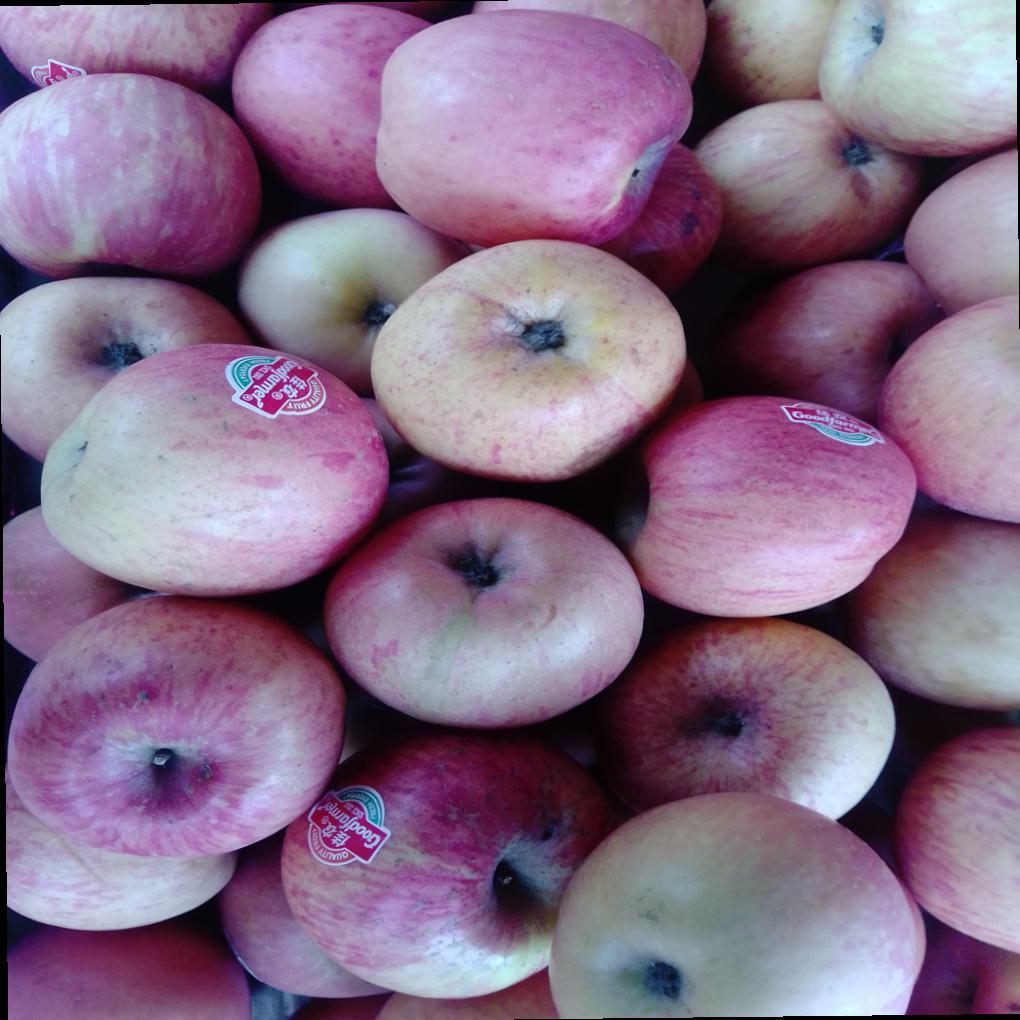FreshGuava: (0, 15, 1020, 1020)
